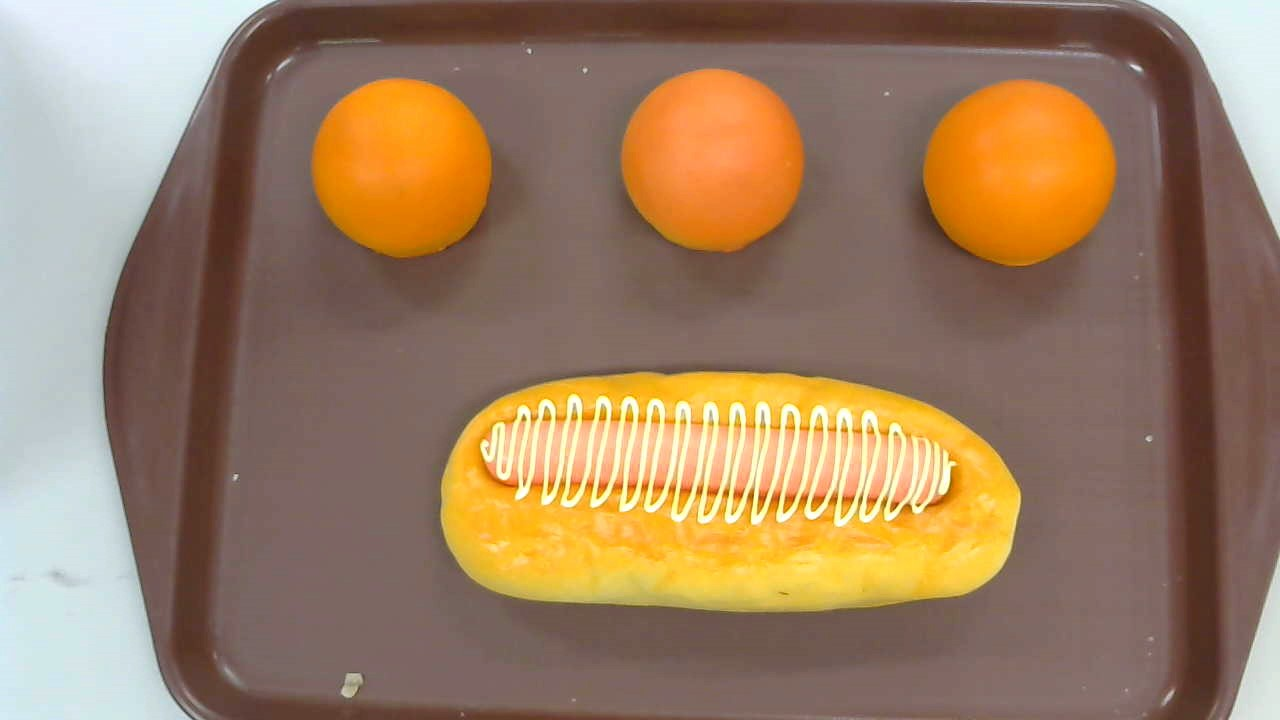bun: (923, 78, 1116, 268), (620, 66, 803, 255), (310, 74, 493, 258)
hot dog: (439, 372, 1021, 614)
